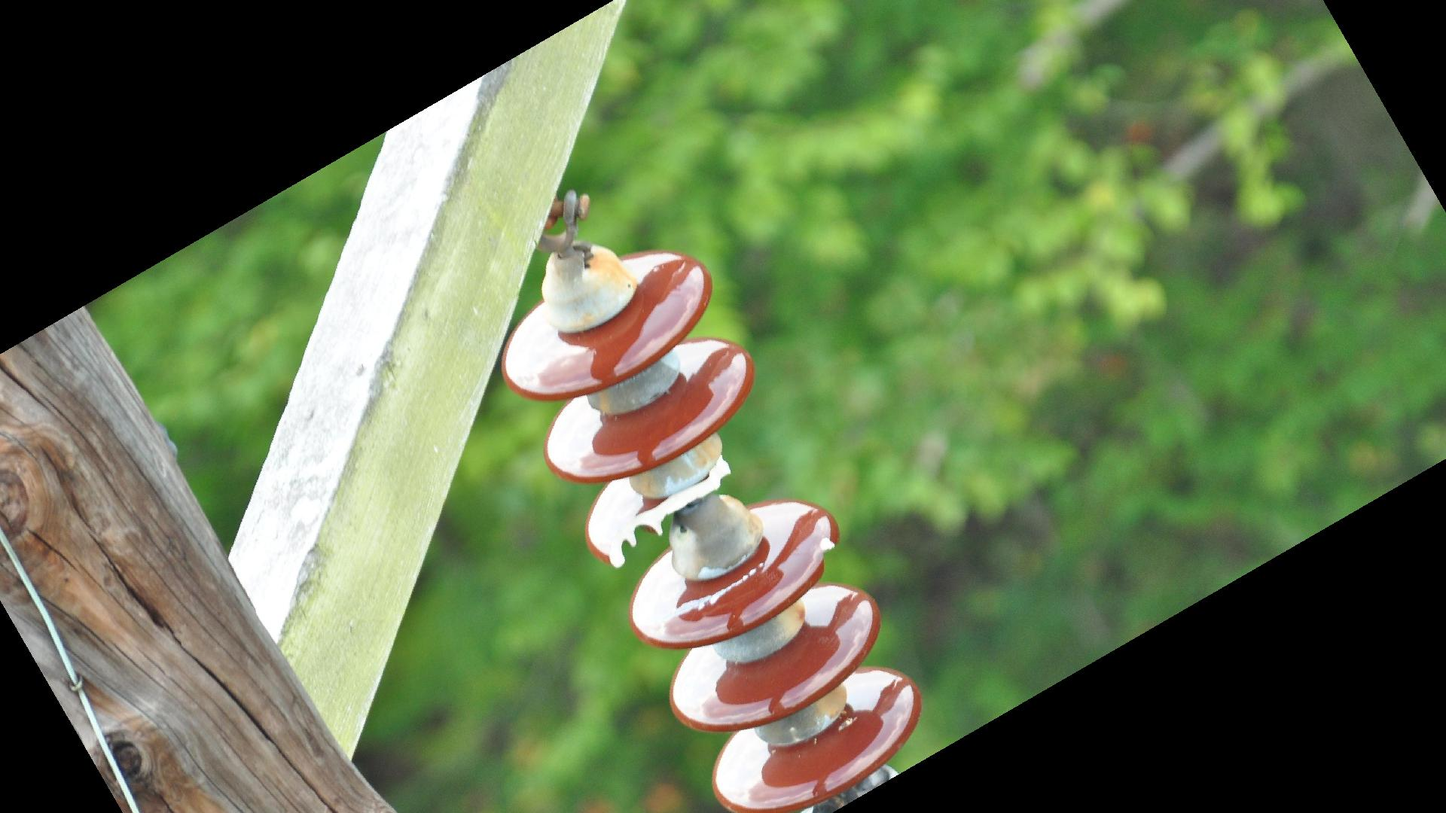insulator: (492, 244, 929, 813)
insulator_breakage: (599, 454, 737, 574), (806, 533, 845, 586)
